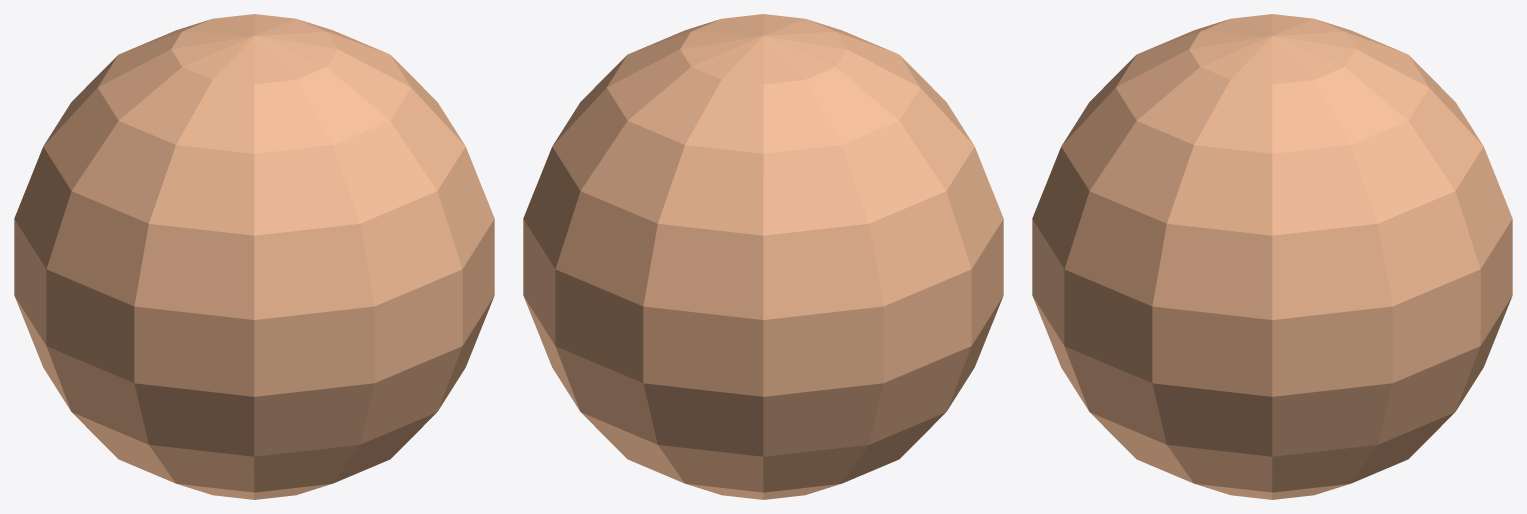
The model's file is planet.glb.
The picture shows the model from 3 angles, left to right: view 1: azimuth 30°, elevation 25°; view 2: azimuth 150°, elevation 25°; view 3: azimuth 270°, elevation 25°; orthographic projection.
Visible parts, largest first — view 1: PlanetFull; view 2: PlanetFull; view 3: PlanetFull.
Boxes of the visible parts, bbox=[...] form: PlanetFull: bbox=[14, 14, 494, 499]; PlanetFull: bbox=[523, 14, 1003, 499]; PlanetFull: bbox=[1032, 14, 1512, 499].
Size of the model in its own units: 3.39 by 3.44 by 3.39.
